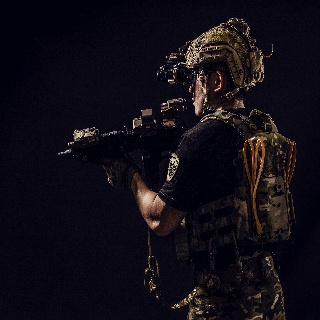rifle: (57, 96, 190, 194)
